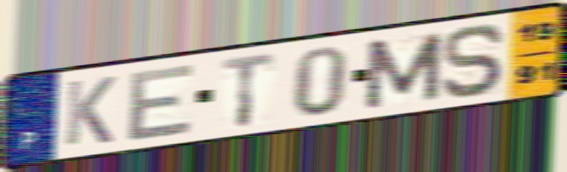0: (290, 44, 351, 118)
E: (124, 60, 198, 144)
K: (62, 74, 119, 149)
M: (361, 29, 446, 112)
S: (439, 21, 508, 100)
T: (220, 50, 279, 130)
